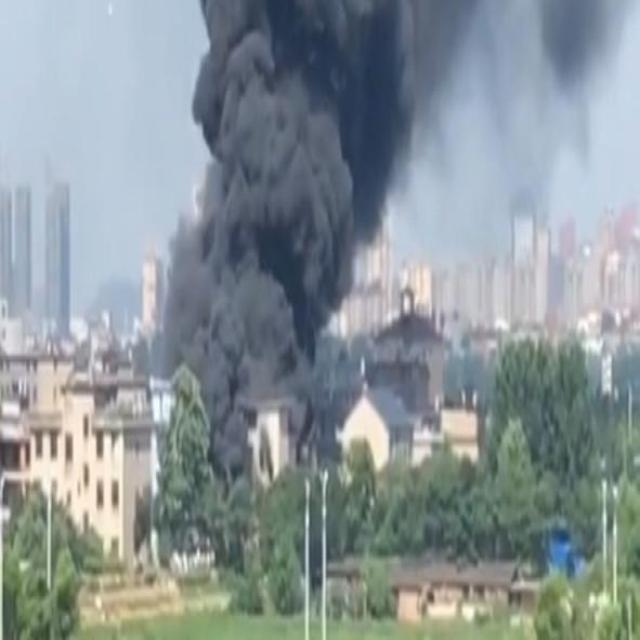smoke: (160, 0, 623, 391)
